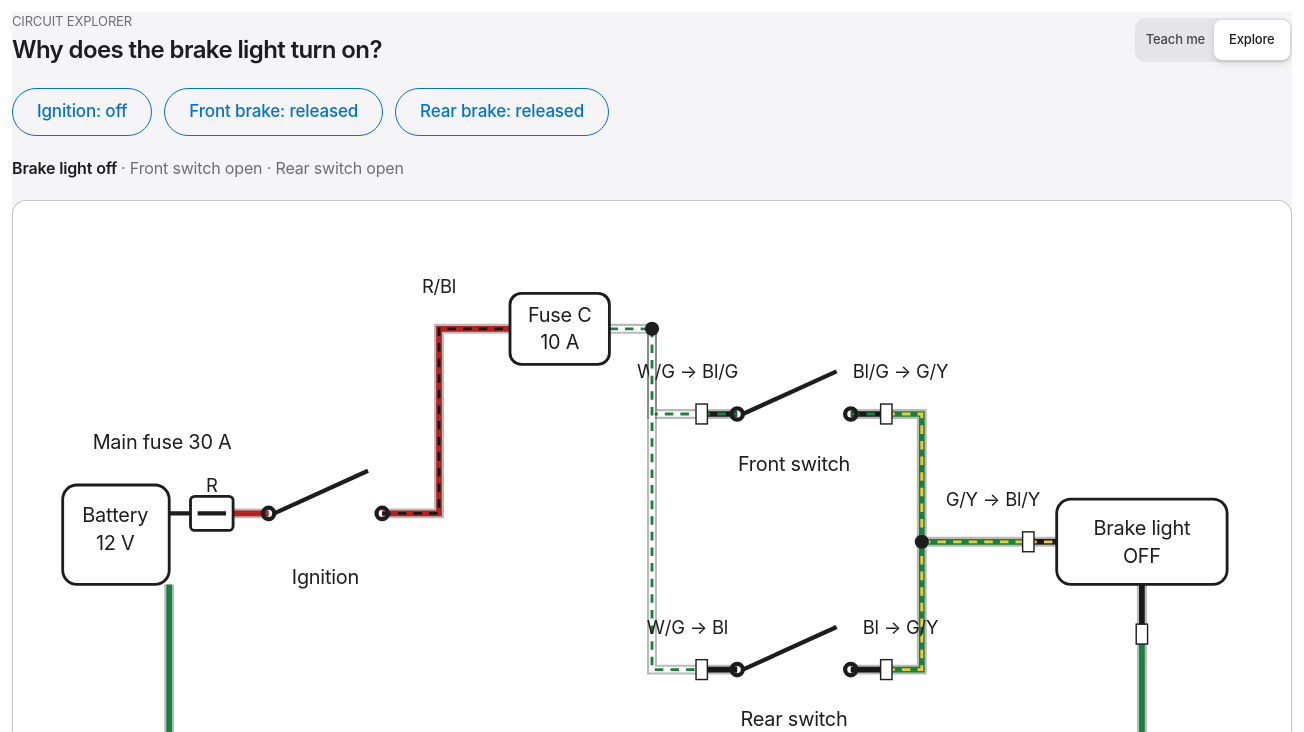
brake-light learning › lets either brake operate the lamp only with the ignition on
The width and height of the screenshot is (1304, 732).
Expected: the message named "Lamp state" shows "Brake light off", [12, 158, 404, 178]
Click the button "Front brake: released".
click(274, 112)  # box [164, 88, 383, 136]
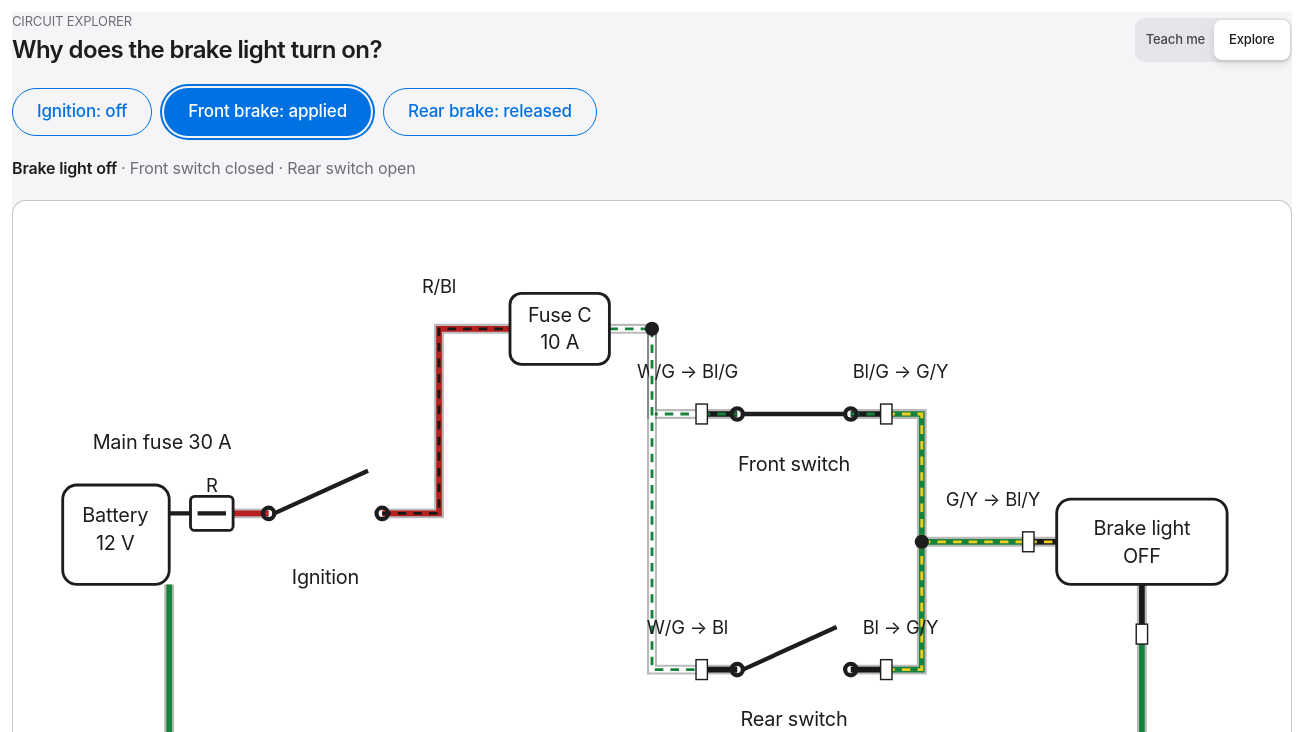
Expected: the message named "Lamp state" shows "Brake light off", [12, 158, 416, 178]
Click the button "Ignition: off".
click(82, 112)  # box [12, 88, 152, 136]
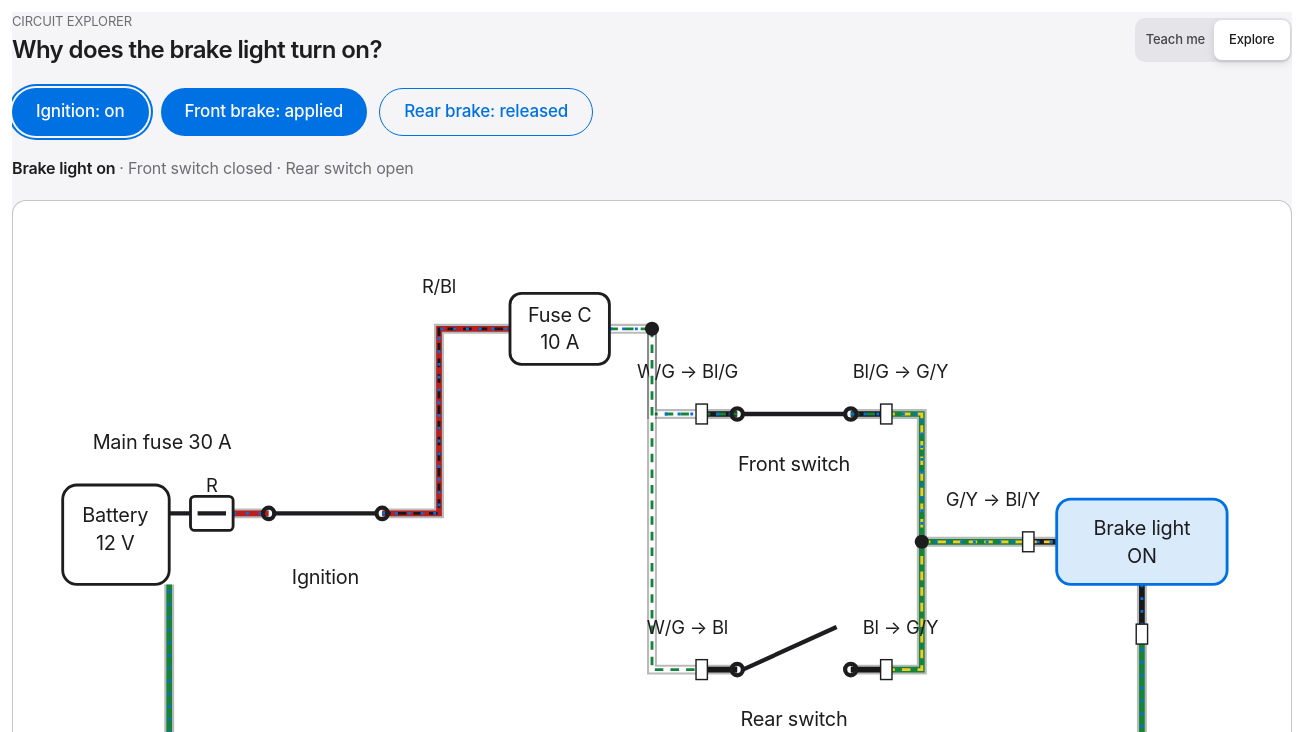
Expected: the message named "Lamp state" shows "Brake light on", [12, 158, 414, 178]
Click the button "Front brake: applied".
click(264, 112)  # box [160, 88, 367, 136]
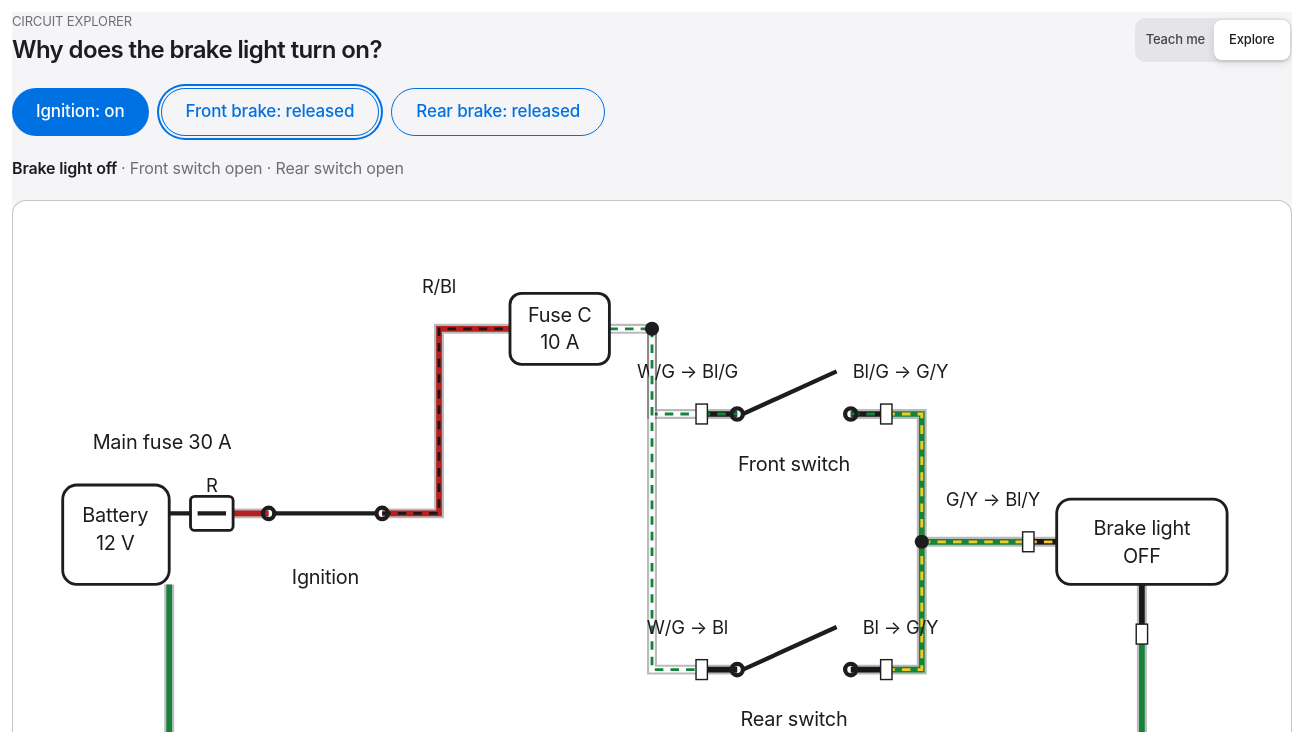
Click the button "Rear brake: released".
click(498, 112)  # box [391, 88, 605, 136]
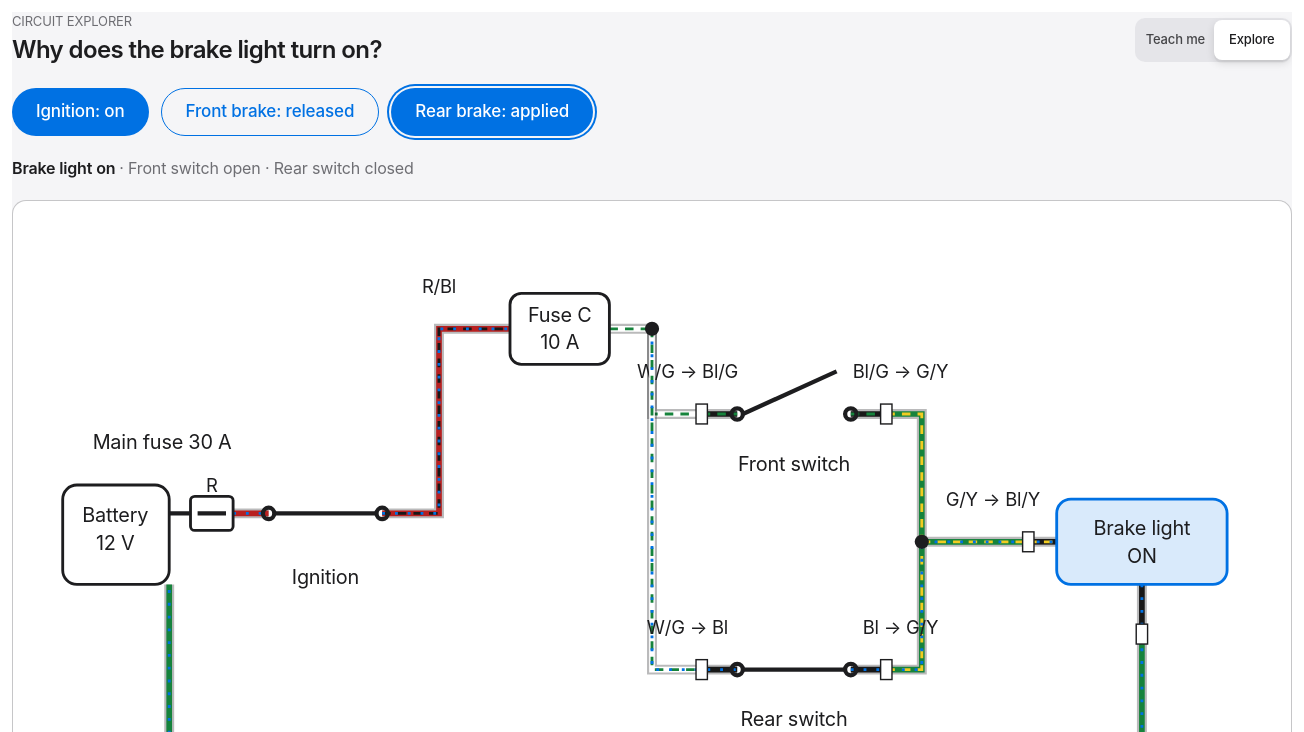
Expected: the message named "Lamp state" shows "Brake light on", [12, 158, 414, 178]
